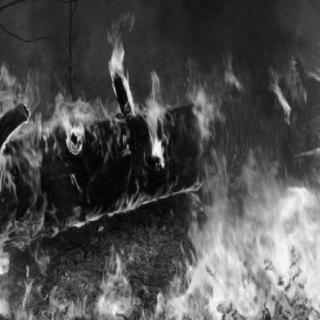Fire: (2, 4, 316, 316)
